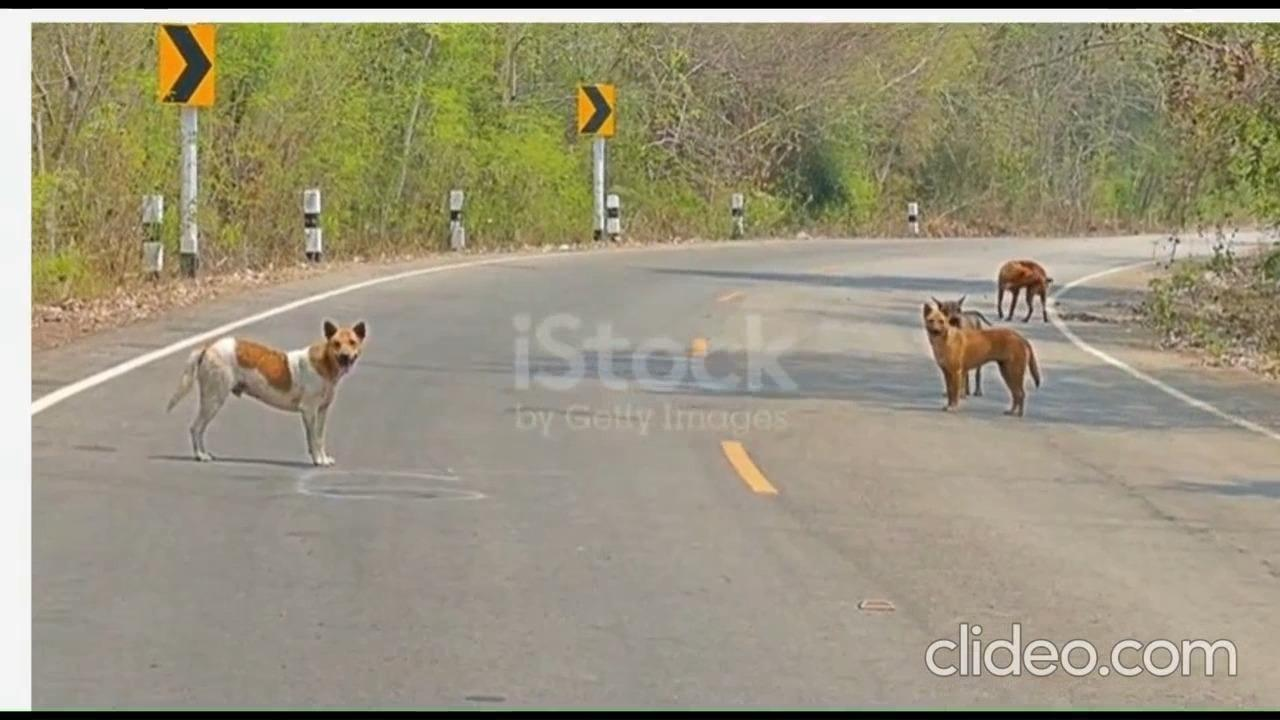dog: (155, 317, 375, 476), (911, 303, 1035, 418), (993, 243, 1068, 324)
